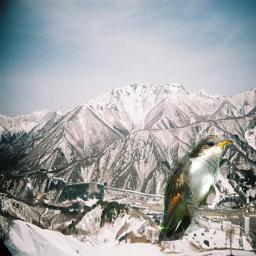Cuckoo: (158, 135, 234, 241)
